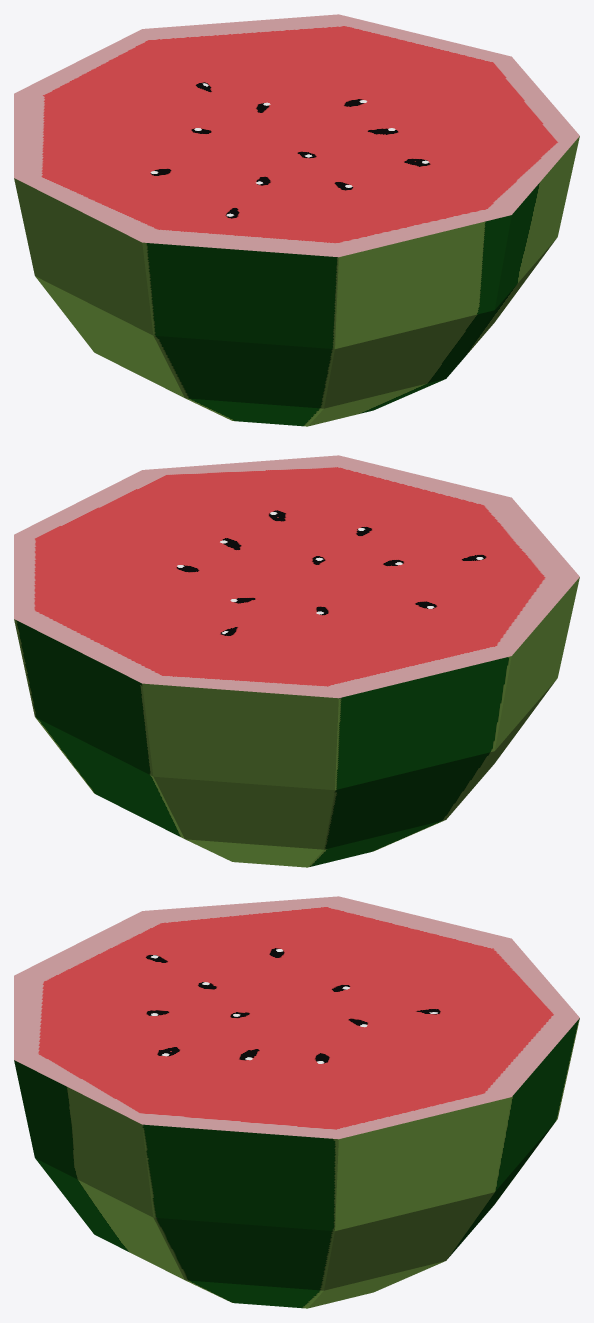
File: sandia.fbx
The picture shows the model from 3 angles, top to bottom: view 1: azimuth 30°, elevation 25°; view 2: azimuth 150°, elevation 25°; view 3: azimuth 270°, elevation 25°; orthographic projection.
Visible parts, largest first — view 1: Sphere; view 2: Sphere; view 3: Sphere.
Part boxes in pixels (x1,y1,x2,y2): Sphere: [14, 14, 579, 426]; Sphere: [14, 455, 579, 867]; Sphere: [14, 896, 579, 1308].
Size of the model in its own units: 197 by 100 by 194.
